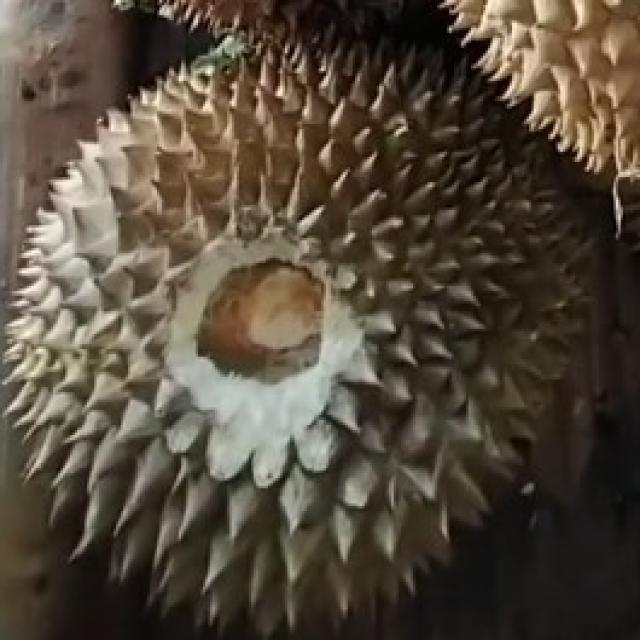defective: (0, 21, 599, 628)
